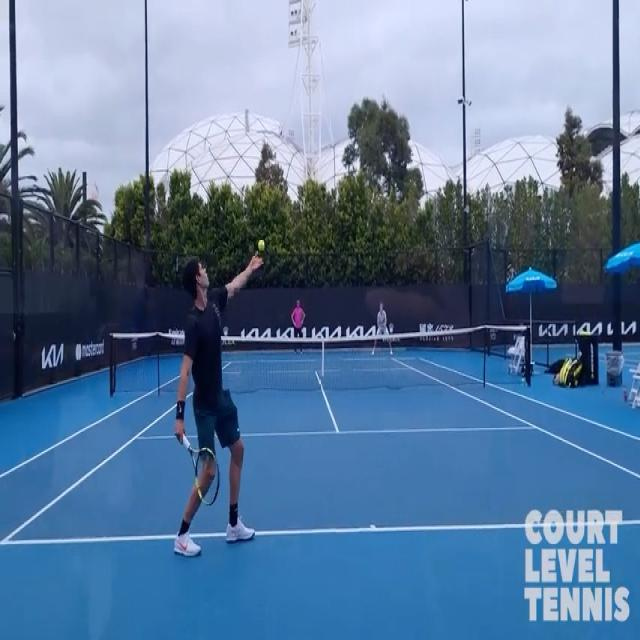serve_toss: (167, 251, 270, 553)
